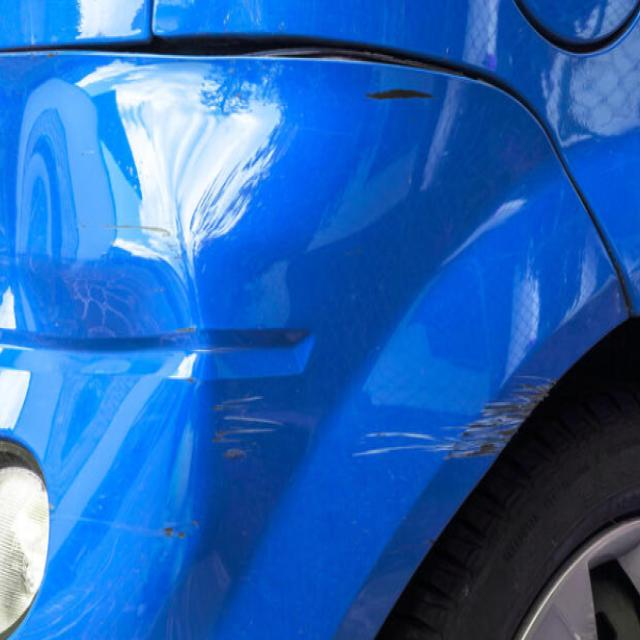scratch: (344, 369, 560, 473), (201, 387, 287, 456)
